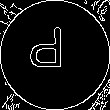P_S: (36, 29, 74, 81)
